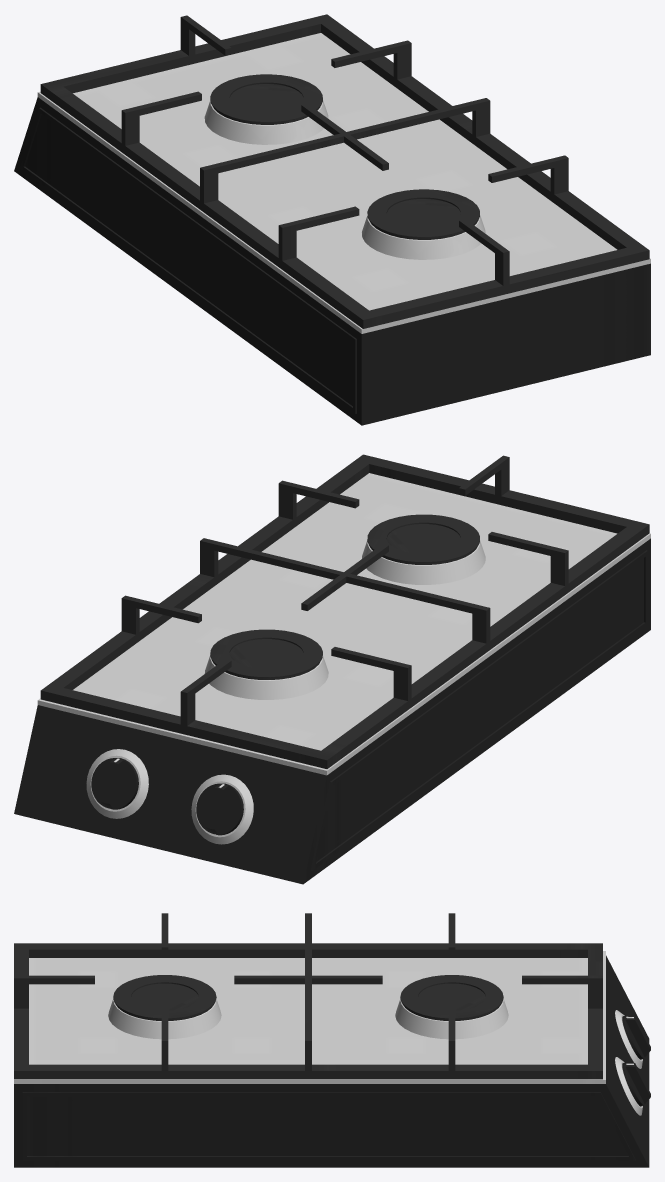
Rendered from GasStove02.glb.
3 renders of one model, top to bottom at view 1: azimuth 30°, elevation 25°; view 2: azimuth 150°, elevation 25°; view 3: azimuth 270°, elevation 25°, orthographic. The views are drawn at different scales.
Parts seen in each view (by area): view 1: GasStove02_model; view 2: GasStove02_model, GasStove02_Knob01, GasStove02_Knob02; view 3: GasStove02_model, GasStove02_Knob01, GasStove02_Knob02.
Part boxes in pixels (x1=…): GasStove02_model: x1=14, y1=14, x2=650, y2=425; GasStove02_model: x1=14, y1=454, x2=650, y2=884; GasStove02_Knob01: x1=91, y1=758, x2=138, y2=809; GasStove02_Knob02: x1=196, y1=783, x2=243, y2=834; GasStove02_model: x1=14, y1=913, x2=649, y2=1167; GasStove02_Knob01: x1=622, y1=1062, x2=650, y2=1106; GasStove02_Knob02: x1=622, y1=1015, x2=650, y2=1059.
Bounding box in the file's own units: 0.6315 × 0.2853 × 1.3.
1 material, 1 textured.
